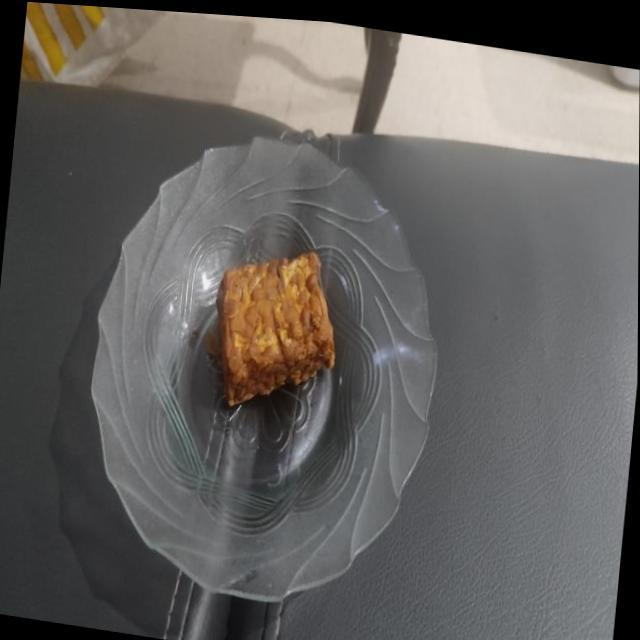tempe_goreng: (217, 252, 334, 404)
